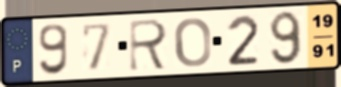2: (225, 13, 261, 67)
7: (80, 22, 113, 73)
9: (267, 9, 305, 67), (37, 22, 70, 77)
O: (172, 16, 213, 70)
R: (127, 17, 171, 74)
